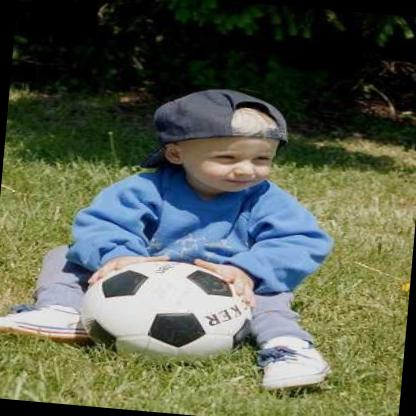ball: (76, 254, 254, 372)
